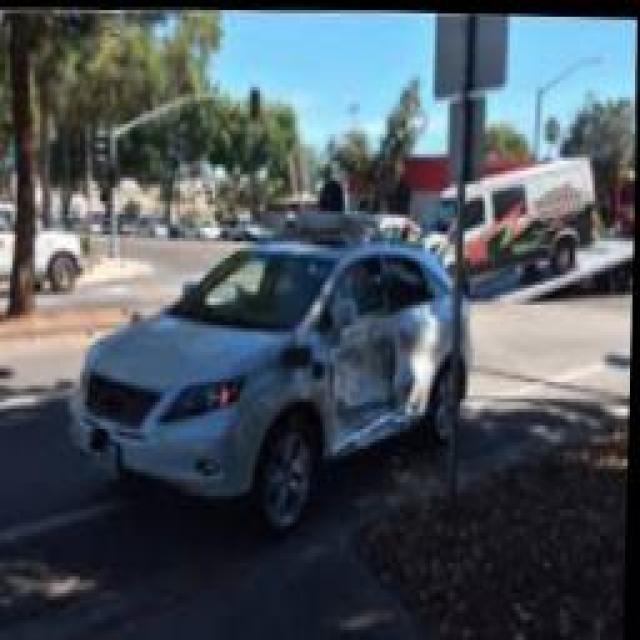Door: (317, 245, 399, 445)
